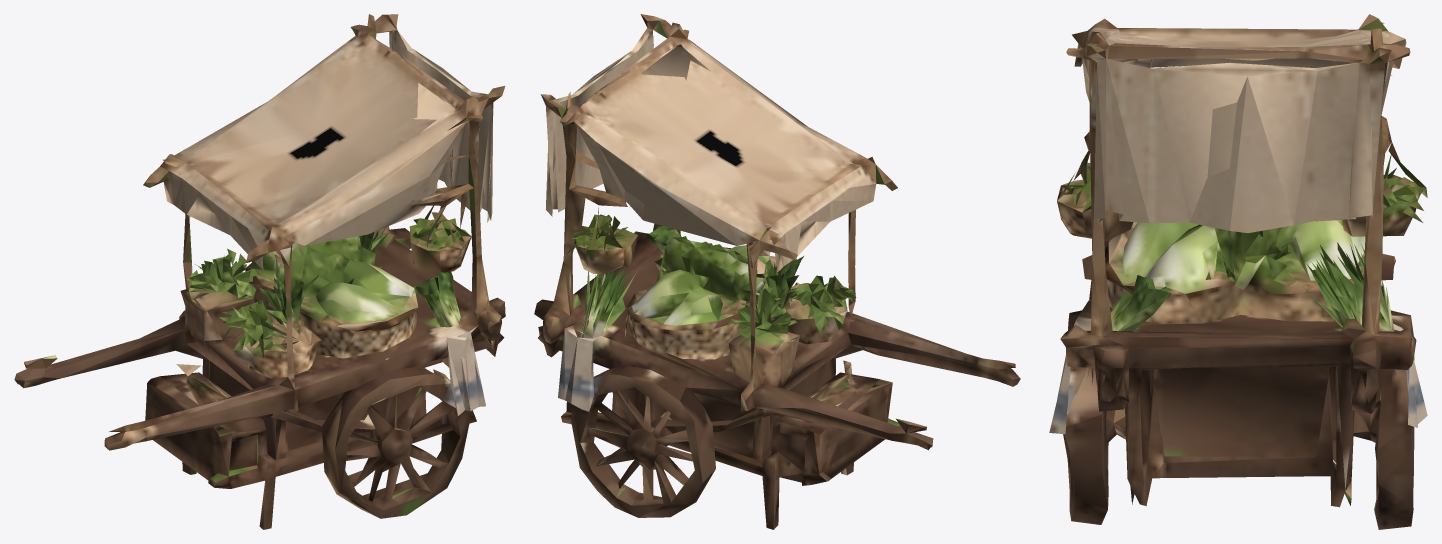
Rendered from 01_Vegetable_Pushcart_LOD2.fbx.
3 renders of one model, left to right at view 1: azimuth 30°, elevation 25°; view 2: azimuth 150°, elevation 25°; view 3: azimuth 270°, elevation 25°, orthographic. The views are drawn at different scales.
Visible parts, largest first — view 1: 01_Vegetable_Pushcart_L2; view 2: 01_Vegetable_Pushcart_L2; view 3: 01_Vegetable_Pushcart_L2.
Boxes of the visible parts, x1,y1,x2,y2 form: 01_Vegetable_Pushcart_L2: (14, 14, 505, 529); 01_Vegetable_Pushcart_L2: (534, 14, 1020, 529); 01_Vegetable_Pushcart_L2: (1049, 14, 1427, 529).
Bounding box in the file's own units: 2.29 × 2.2 × 1.39.
